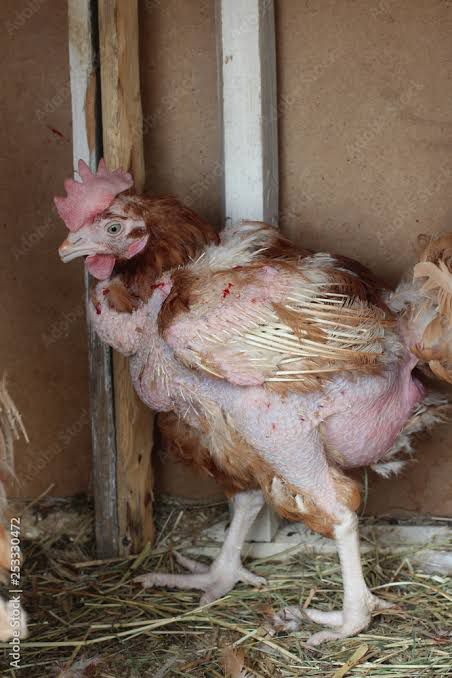Unhealthy: (48, 155, 445, 629)
